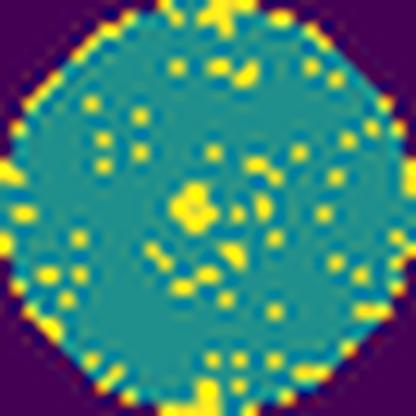Center: (164, 178, 223, 242)
